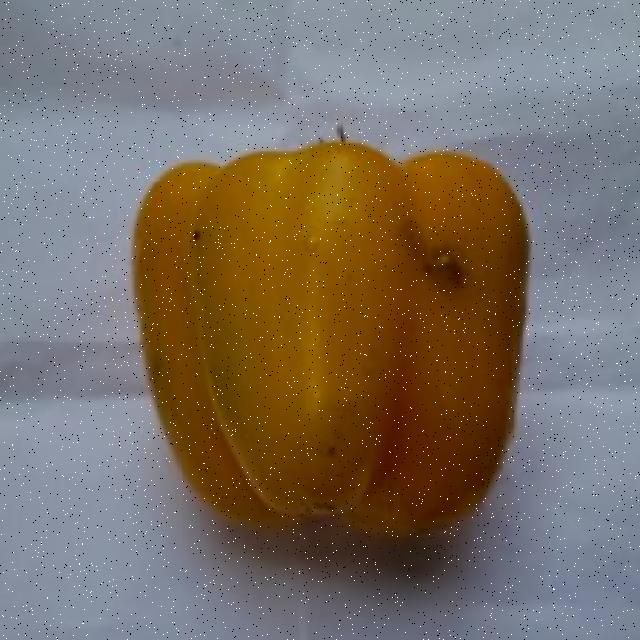Bell Pepper: (90, 83, 575, 596)
